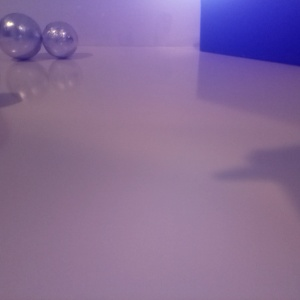alive_ball: (137, 34, 193, 93), (270, 33, 300, 114)
dead_ball: (1, 17, 60, 86), (170, 28, 215, 79)
